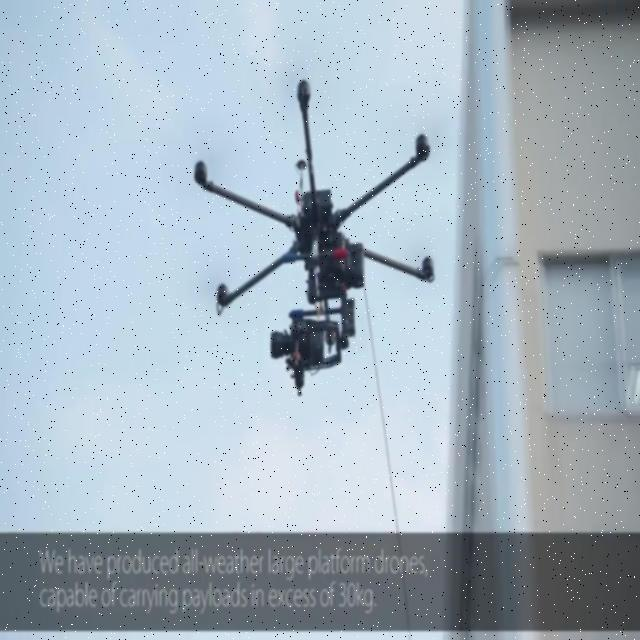UAV: (193, 78, 435, 398)
